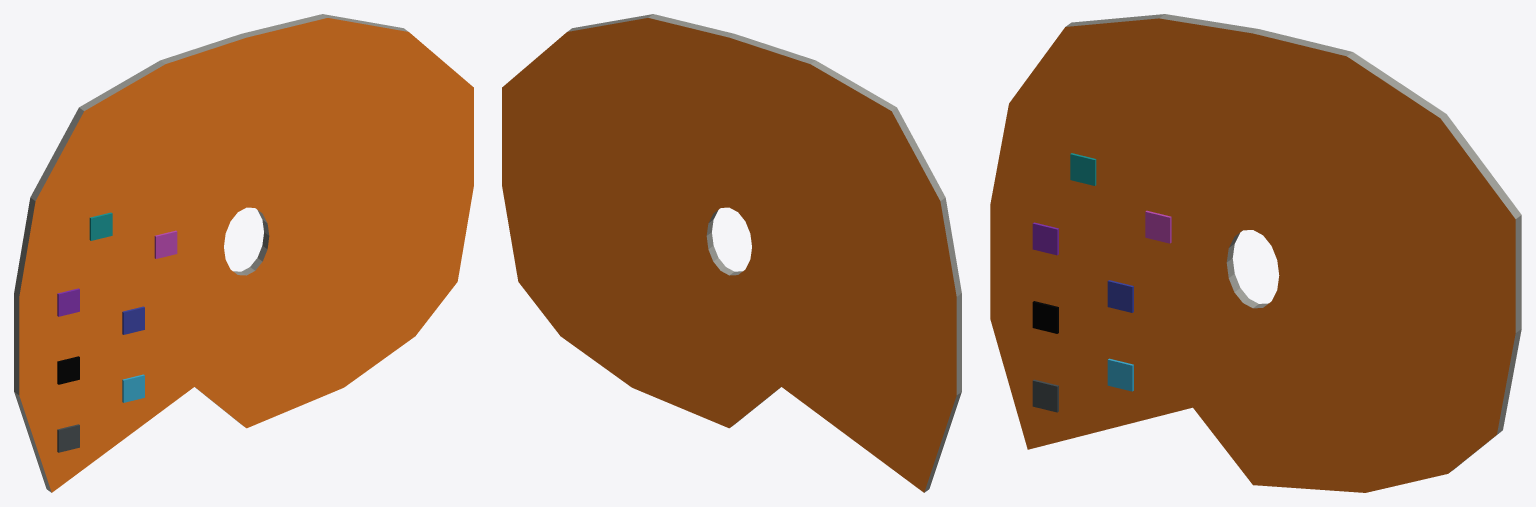
File: item_palette7.obj
The picture shows the model from 3 angles, left to right: view 1: azimuth 30°, elevation 25°; view 2: azimuth 150°, elevation 25°; view 3: azimuth 330°, elevation 25°; orthographic projection. The views are drawn at different scales.
Parts seen in each view (by area): view 1: wooden_palette_with_open_thumb_hole_and_grip_notch, native_cumulative_paint_state; view 2: wooden_palette_with_open_thumb_hole_and_grip_notch; view 3: wooden_palette_with_open_thumb_hole_and_grip_notch, native_cumulative_paint_state.
Part boxes in pixels (bbox=[...]): wooden_palette_with_open_thumb_hole_and_grip_notch: bbox=[14, 14, 473, 492]; native_cumulative_paint_state: bbox=[57, 212, 177, 452]; wooden_palette_with_open_thumb_hole_and_grip_notch: bbox=[502, 14, 961, 492]; wooden_palette_with_open_thumb_hole_and_grip_notch: bbox=[990, 14, 1521, 492]; native_cumulative_paint_state: bbox=[1032, 153, 1171, 412].
Bounding box in the file's own units: 0.875 × 0.75 × 0.0219.
